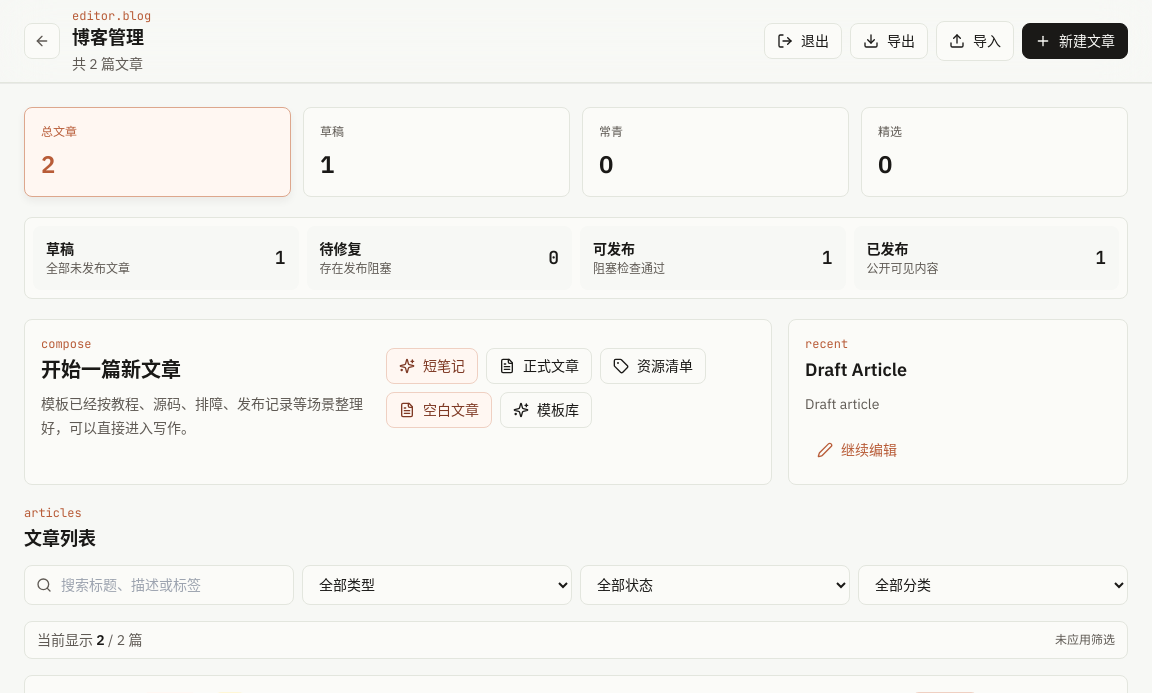
Scenario: BlogEditorPage › removes individual active filters from filter chips
The image size is (1152, 693).
What coordinates should you click on to do the following:
click the button "草稿 1"
I would click on:
 (332, 132)
Its box is [303,107,570,197].
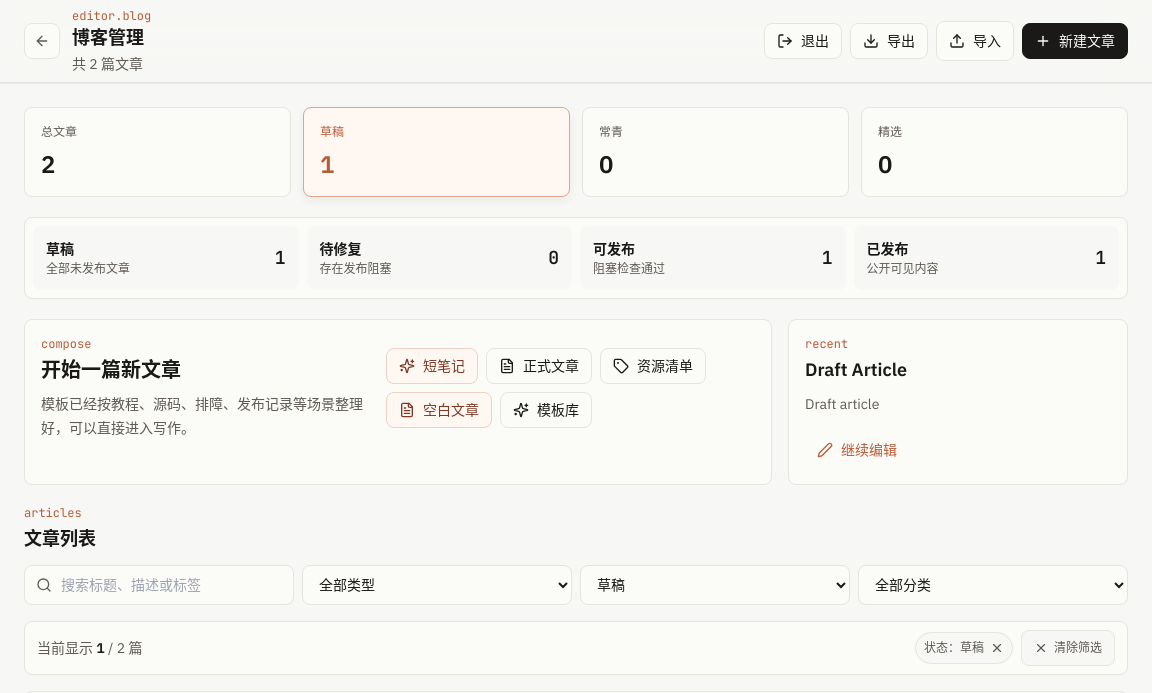
expect the text "Draft Article" is shown: met, box [805,358,907,381]
expect the text "当前显示 1 / 2 篇" is shown: met, box [37,638,142,658]
What coordinates should you click on to do the following:
click the button with aria-label "移除筛选：状态：草稿"
I would click on:
 (964, 648)
Its box is [915,632,1013,664].
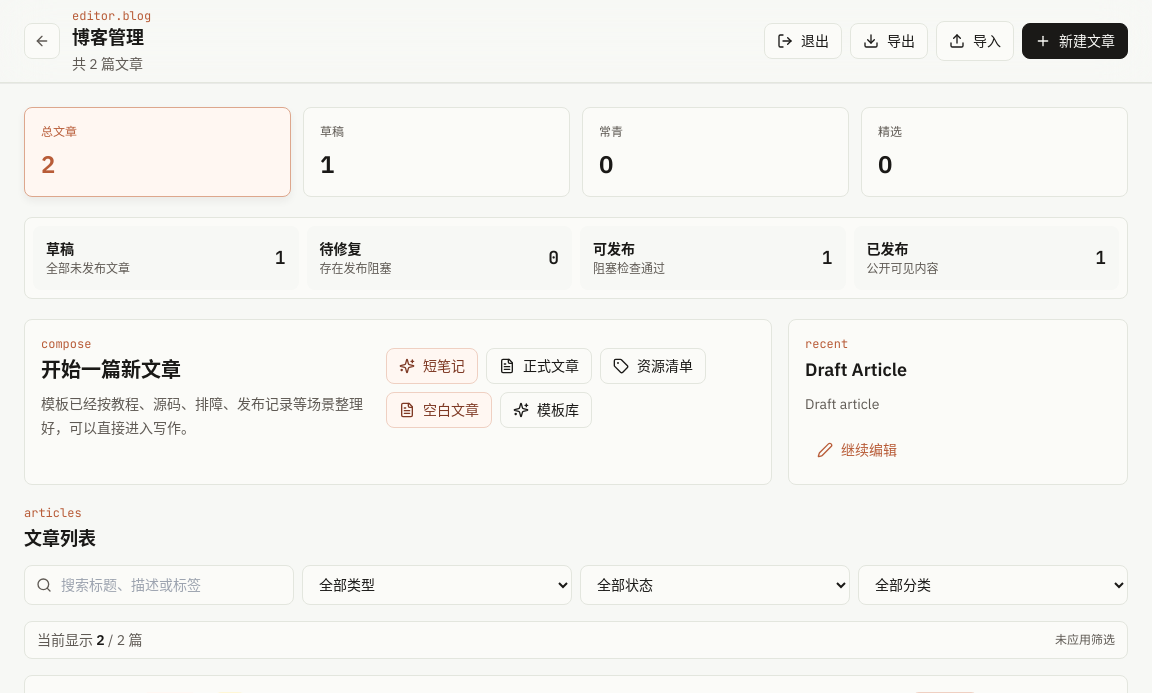
expect the text "当前显示 2 / 2 篇" is shown: met, box [37,630,142,650]
expect the text "未应用筛选" is shown: met, box [1055,632,1115,648]
